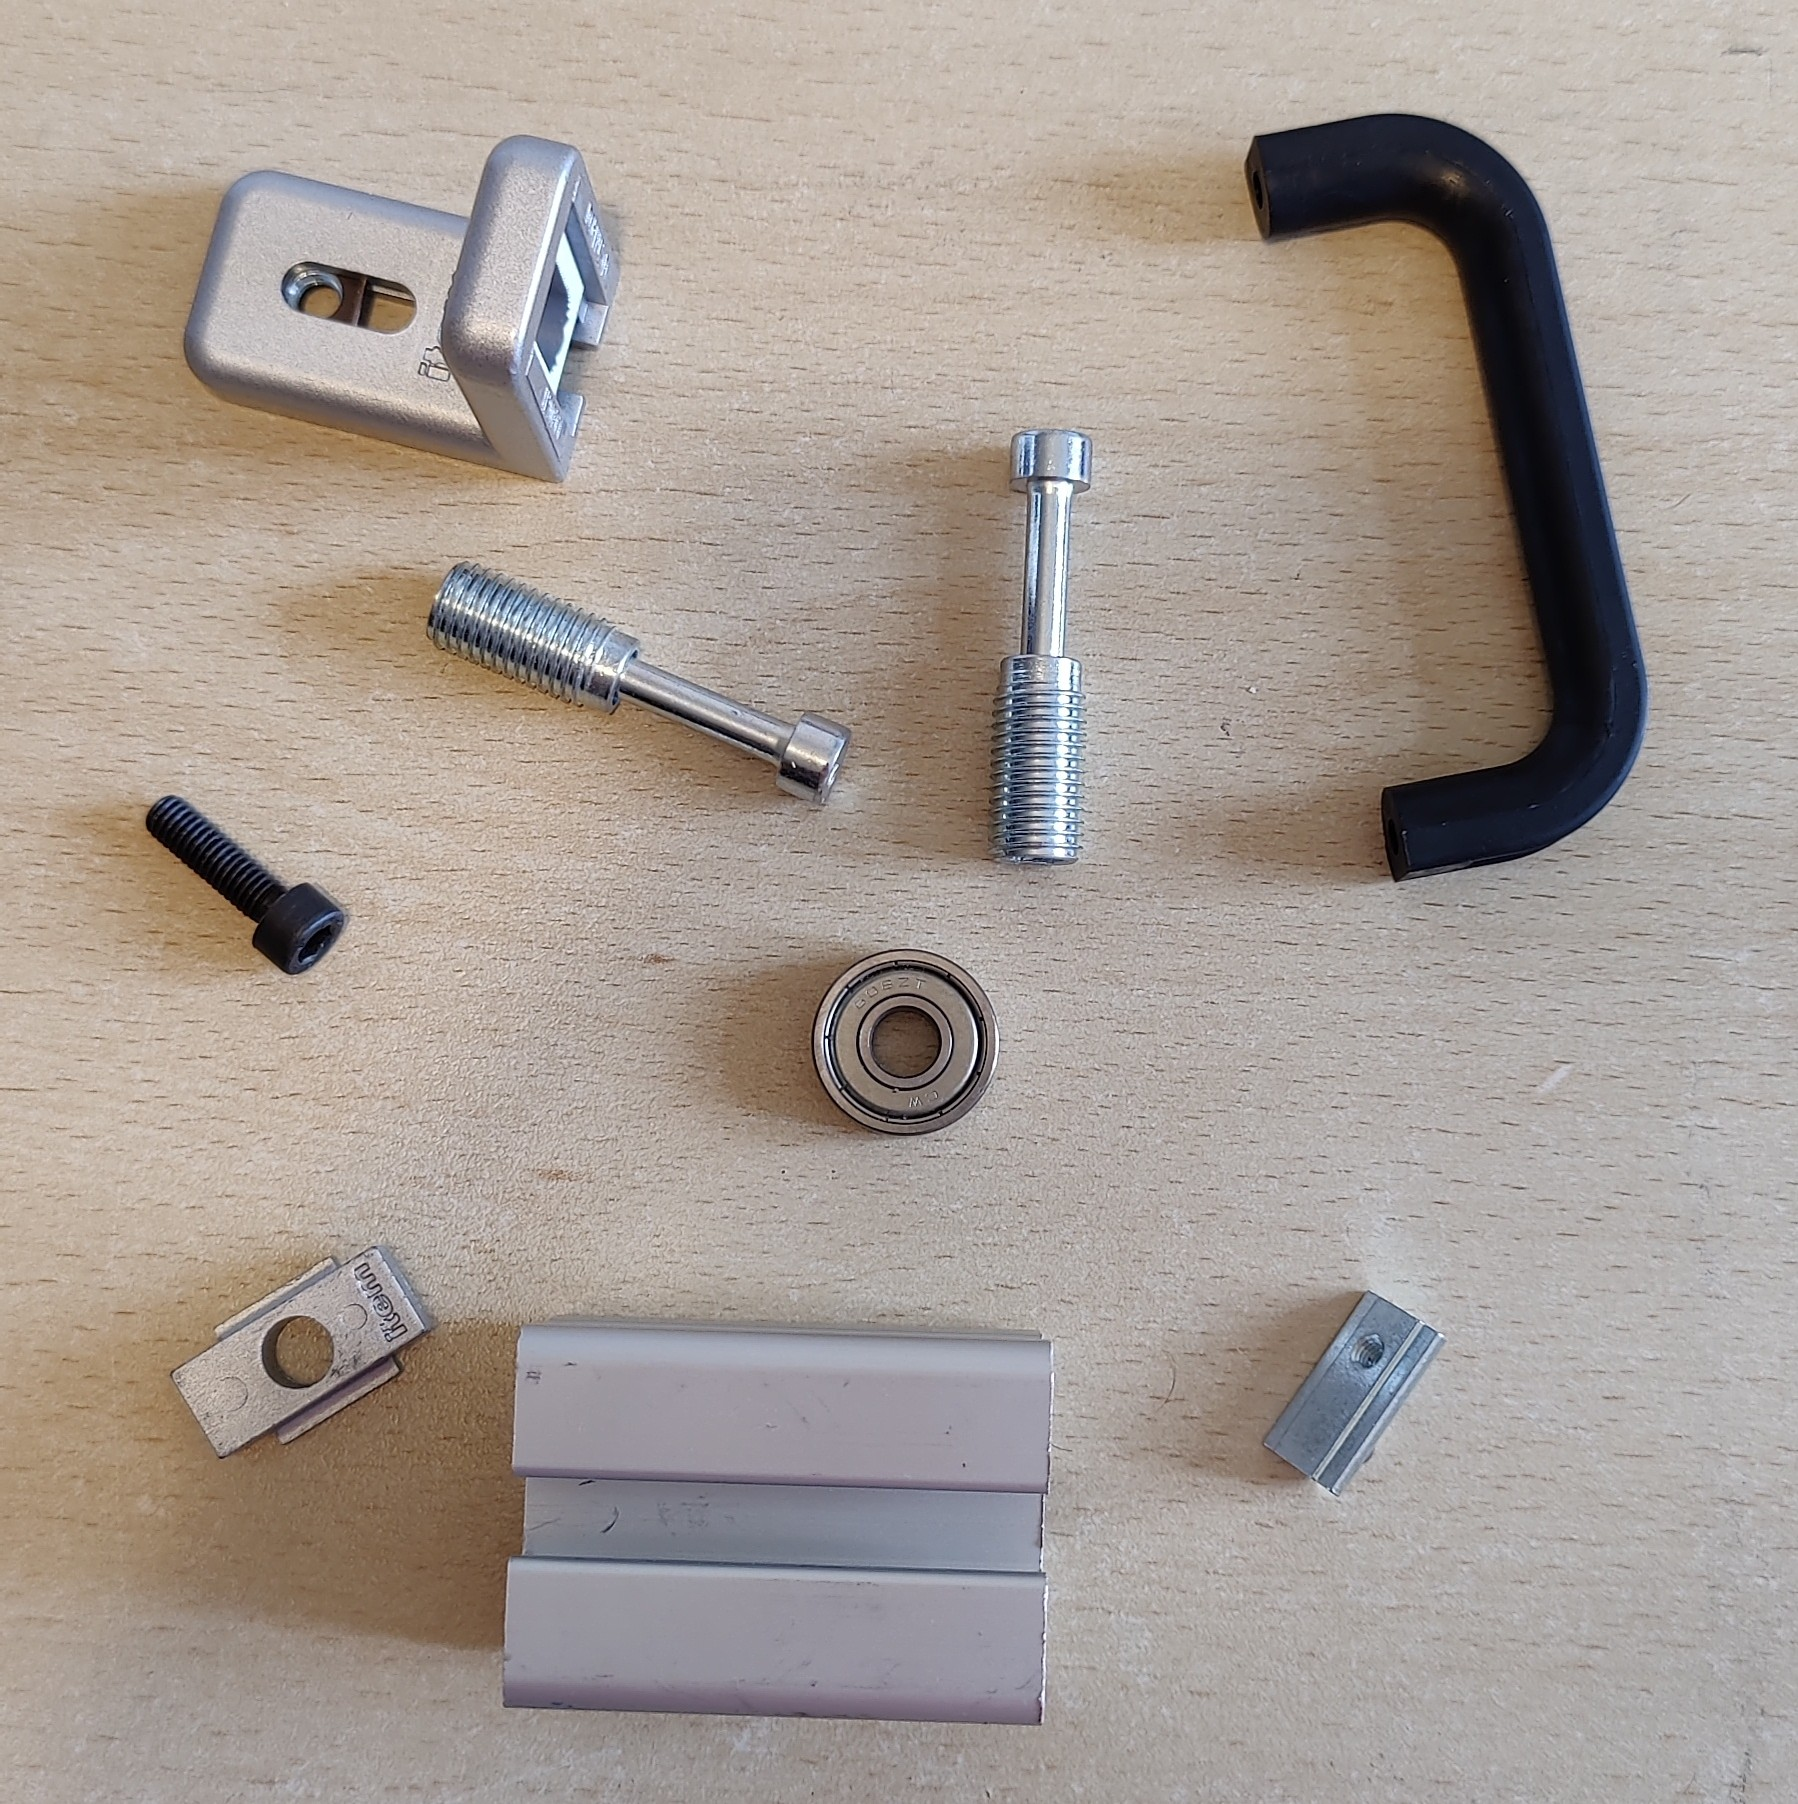Aluminium Extension: (499, 1310, 1055, 1732)
Ball Bearing: (808, 945, 999, 1137)
Multiwinkel: (179, 130, 624, 489)
Pull Handle: (1240, 110, 1651, 882)
Shoulder Socket Head Cap Screw: (418, 561, 855, 810), (981, 423, 1098, 867)
Socket Head Cap Screw: (140, 790, 347, 974)
T Nut Square: (166, 1238, 445, 1463)
T Spring Nut: (1258, 1286, 1447, 1496)
